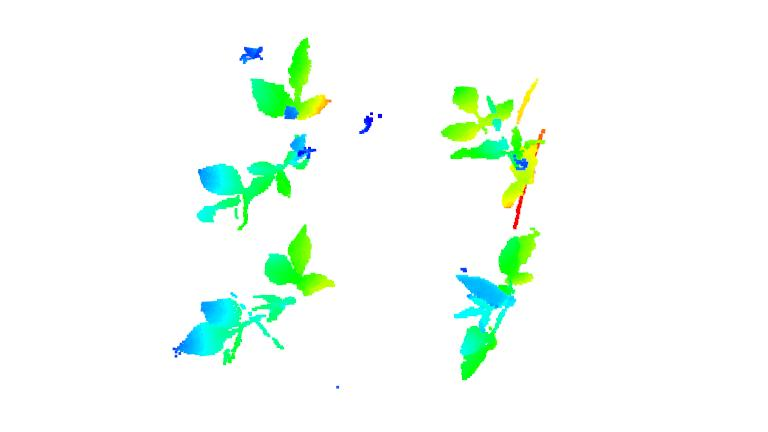mungbean: (189, 31, 337, 230), (172, 223, 341, 367), (452, 224, 545, 383), (438, 80, 541, 213)
